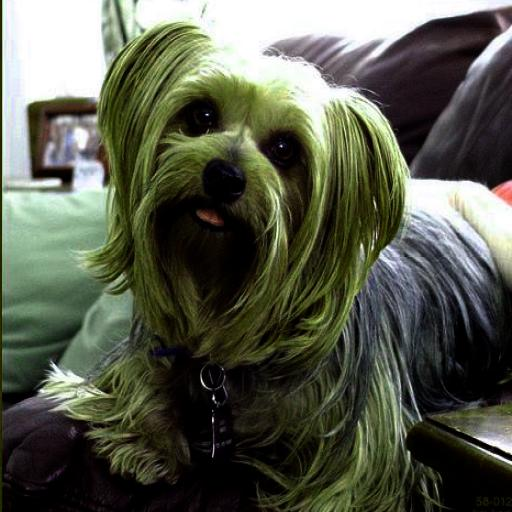dog_face: (115, 24, 375, 317)
